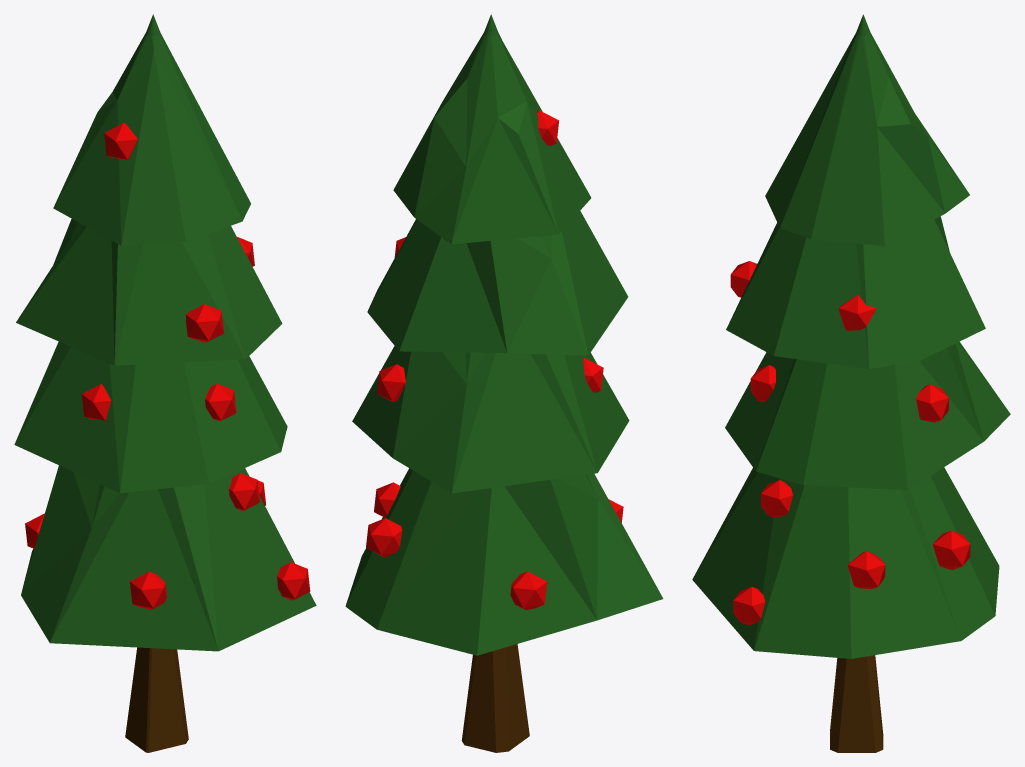
The model's file is pinomanzanas.fbx.
3 renders of one model, left to right at view 1: azimuth 30°, elevation 25°; view 2: azimuth 150°, elevation 25°; view 3: azimuth 270°, elevation 25°, orthographic.
Parts seen in each view (by area): view 1: arbol fino.001; view 2: arbol fino.001; view 3: arbol fino.001.
Part boxes in pixels (x1,y1,x2,y2): arbol fino.001: (14,14,316,752); arbol fino.001: (345,14,663,752); arbol fino.001: (692,14,1010,752).
Bounding box in the file's own units: 561 × 1426 × 566.
